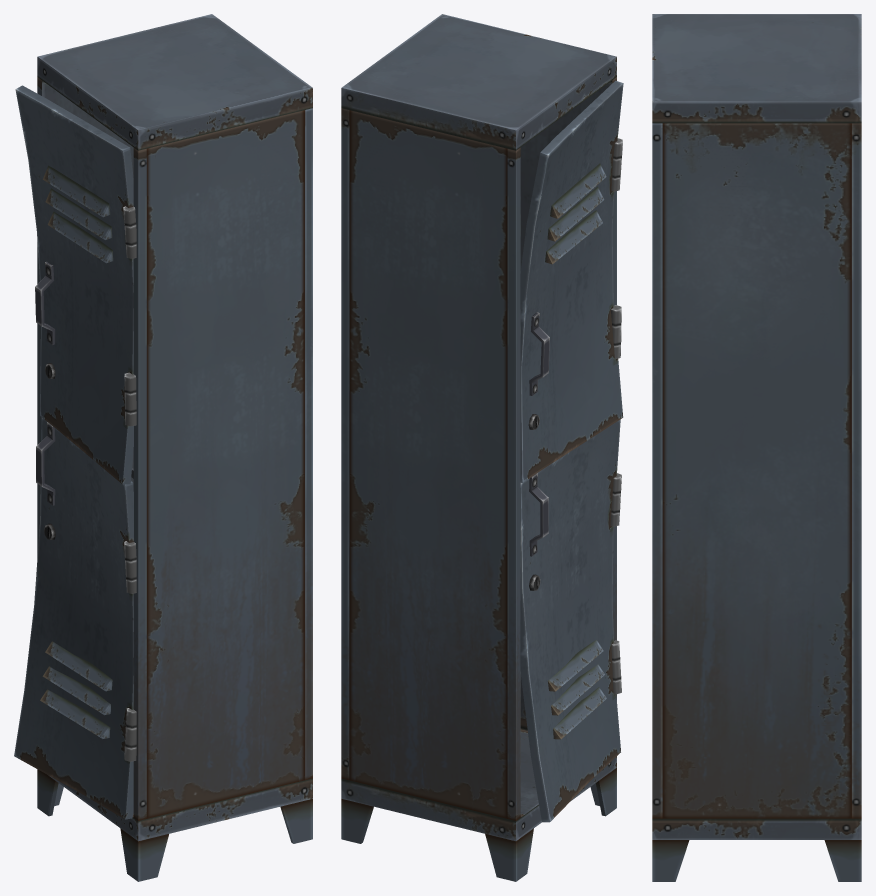
The model's file is locker01_B.FBX.
3 views of the same model, side by side, from view 1: azimuth 30°, elevation 25°; view 2: azimuth 150°, elevation 25°; view 3: azimuth 270°, elevation 25° (orthographic). The views are drawn at different scales.
Visible parts, largest first — view 1: locker01_B, locker01_B_door01, locker01_B_door02; view 2: locker01_B, locker01_B_door01, locker01_B_door02; view 3: locker01_B.
Boxes of the visible parts, x1,y1,x2,y2 form: locker01_B: (37,14,312,881); locker01_B_door01: (14,417,136,819); locker01_B_door02: (15,85,136,484); locker01_B: (341,14,616,881); locker01_B_door01: (520,419,621,822); locker01_B_door02: (520,80,623,482); locker01_B: (652,14,861,881).
Size of the model in its own units: 52.42 by 185 by 45.
